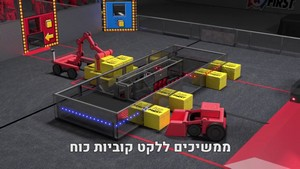cube: (142, 105, 172, 132), (168, 91, 194, 112), (205, 71, 229, 91), (102, 58, 124, 78), (222, 63, 240, 81), (85, 63, 98, 78)
